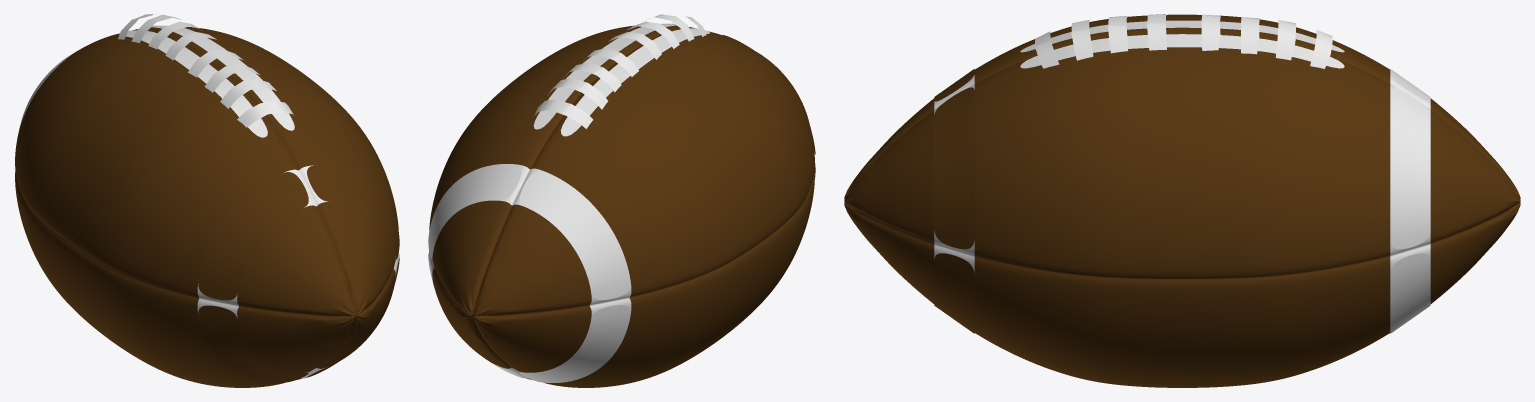
The model's file is football.glb.
The picture shows the model from 3 angles, left to right: view 1: azimuth 30°, elevation 25°; view 2: azimuth 150°, elevation 25°; view 3: azimuth 270°, elevation 25°; orthographic projection. The views are drawn at different scales.
Parts seen in each view (by area): view 1: 球体, 球体.001, 球体.002, 平面.010, 平面.012, 平面.014, 平面.016; view 2: 球体, 球体.002, 球体.001, 平面.003, 平面.016, 平面.001, 平面.014, 平面.004; view 3: 球体, 球体.002, 球体.001, 平面.002, 平面.008, 平面.006, 平面.004.
Part boxes in pixels (bbox=[...]): 球体: bbox=[15, 26, 399, 387]; 球体.001: bbox=[119, 25, 294, 137]; 球体.002: bbox=[15, 52, 399, 378]; 平面.010: bbox=[237, 101, 281, 127]; 平面.012: bbox=[220, 79, 265, 108]; 平面.014: bbox=[204, 64, 248, 92]; 平面.016: bbox=[188, 49, 231, 77]; 球体: bbox=[429, 25, 815, 387]; 球体.002: bbox=[428, 164, 631, 382]; 球体.001: bbox=[533, 23, 709, 136]; 平面.003: bbox=[554, 100, 593, 128]; 平面.016: bbox=[620, 32, 661, 59]; 平面.001: bbox=[565, 82, 607, 109]; 平面.014: bbox=[638, 22, 679, 48]; 平面.004: bbox=[534, 99, 571, 115]; 球体: bbox=[844, 14, 1520, 387]; 球体.002: bbox=[934, 69, 1430, 333]; 球体.001: bbox=[1020, 20, 1344, 68]; 平面.002: bbox=[1275, 20, 1296, 60]; 平面.008: bbox=[1201, 14, 1220, 50]; 平面.006: bbox=[1241, 17, 1259, 54]; 平面.004: bbox=[1310, 30, 1332, 68].
Size of the model in its own units: 1.97 by 2.06 by 3.58.
